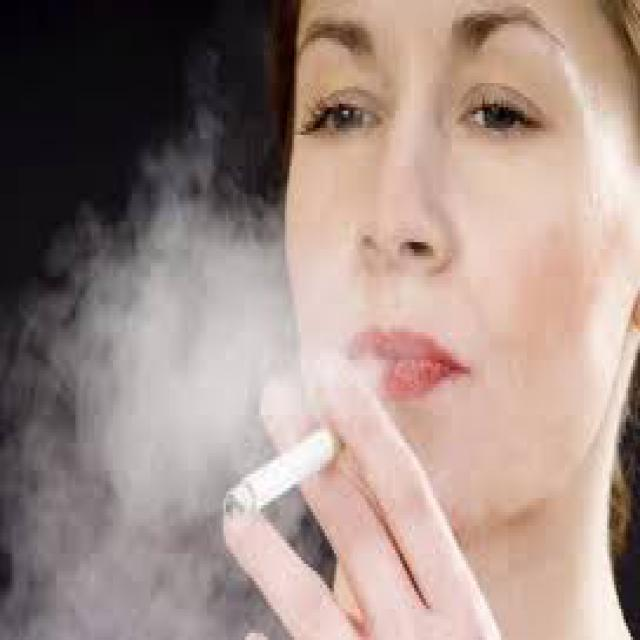cigarette: (214, 420, 352, 530)
